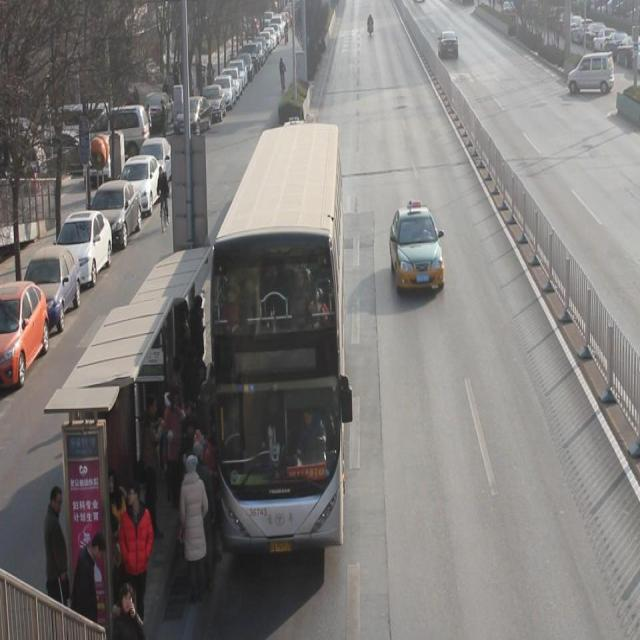car: (389, 203, 446, 298), (438, 30, 459, 61)
truck: (568, 52, 615, 98)
van: (208, 128, 342, 552)
